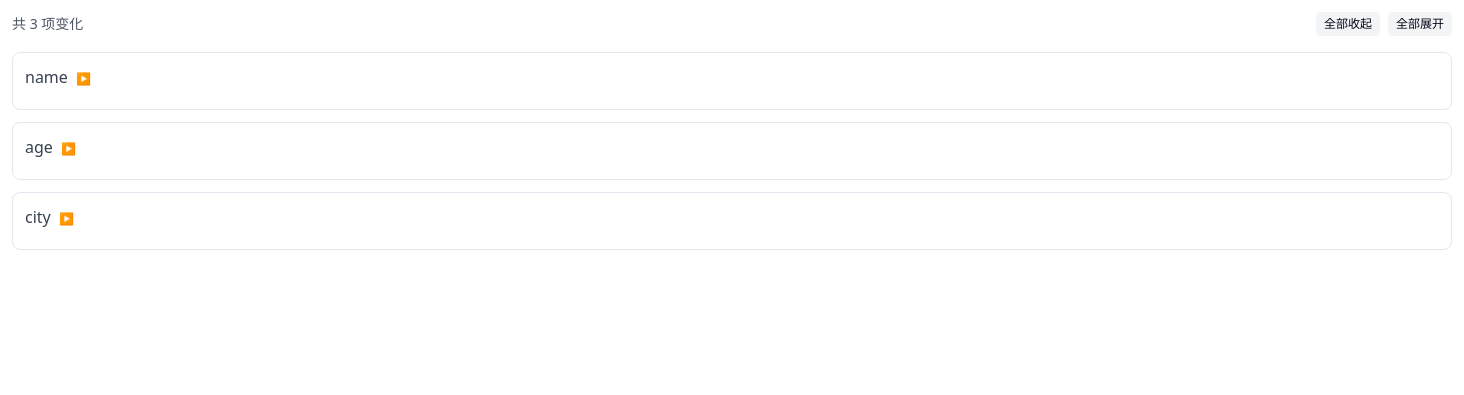
Test: DiffDisplay › 交互功能 › 应该支持展开/收起功能
The image size is (1464, 395).
Step 1. Click the text "name" → x=58, y=77, box x1=25 y1=66 x2=91 y2=88
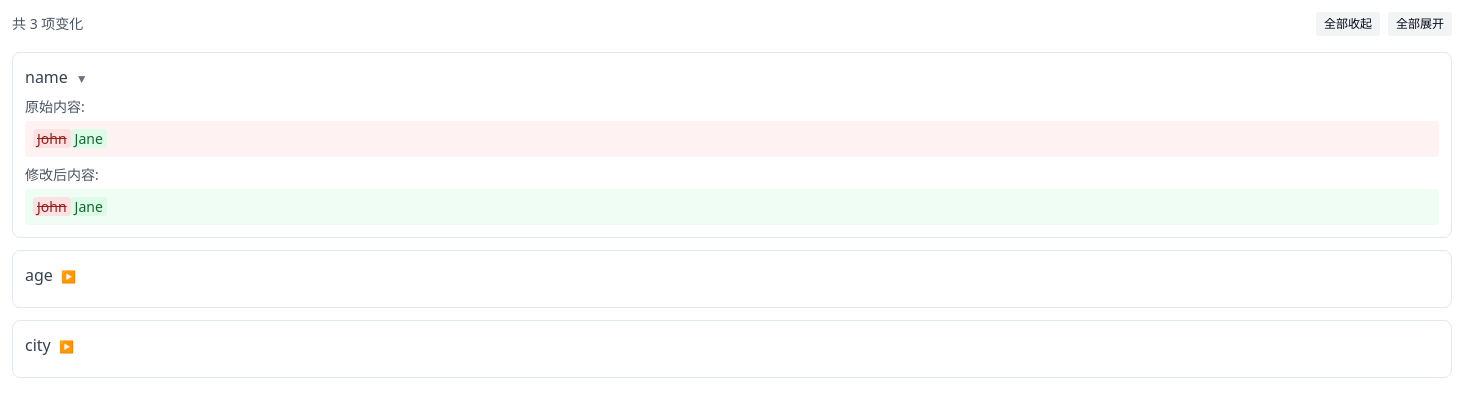
Expected: the text "原始内容:" is shown, x1=25 y1=97 x2=85 y2=116
Expected: the text "修改后内容:" is shown, x1=25 y1=165 x2=99 y2=184
